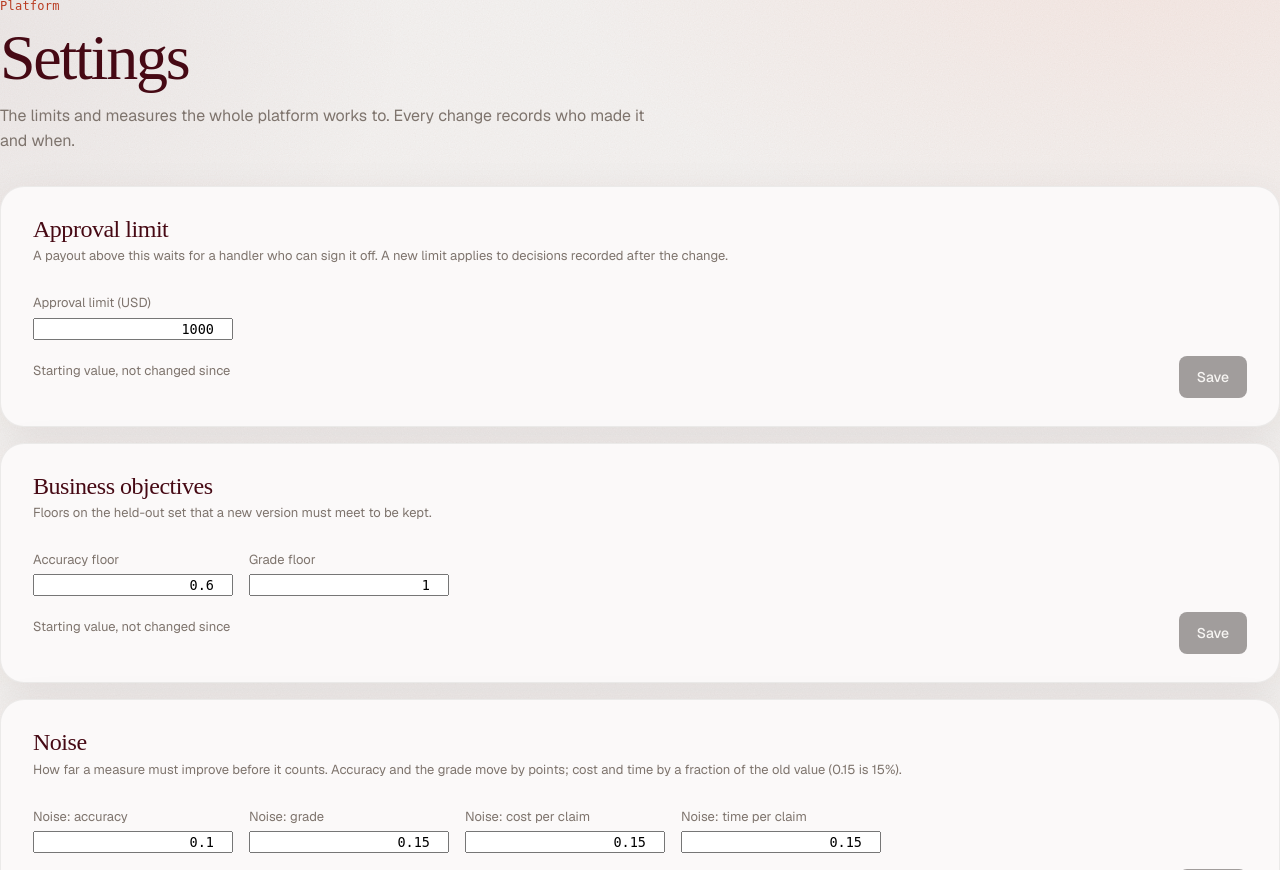
Scenario: Settings › asks for confirmation before a change, and sends nothing until it is given
Replace the text in the number field labelled "Approval limit (USD)" with "1500" at (133, 328), box left=33, top=318, right=233, bottom=340
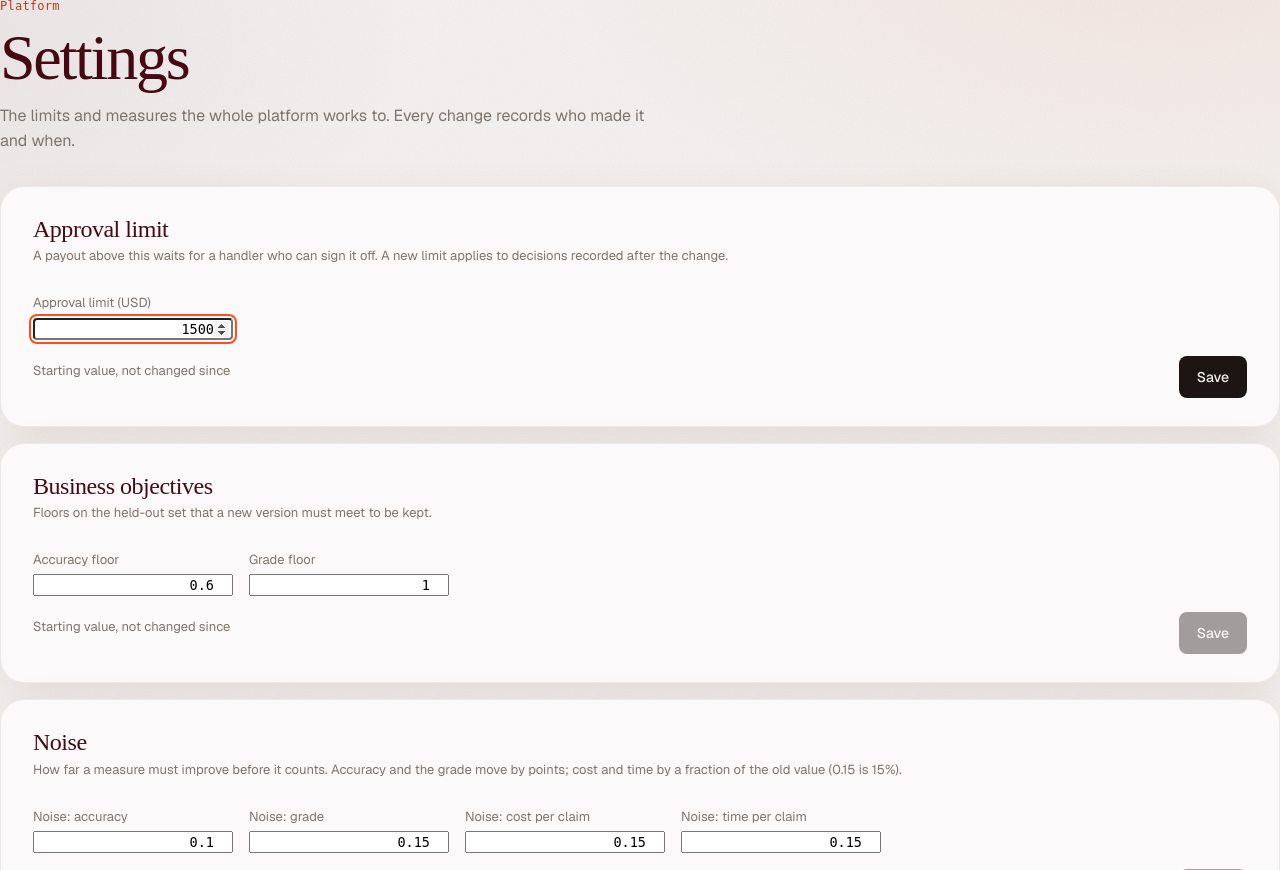
Click the button with aria-label "Save approval limit".
click(1213, 376)  # box left=1179, top=356, right=1247, bottom=398
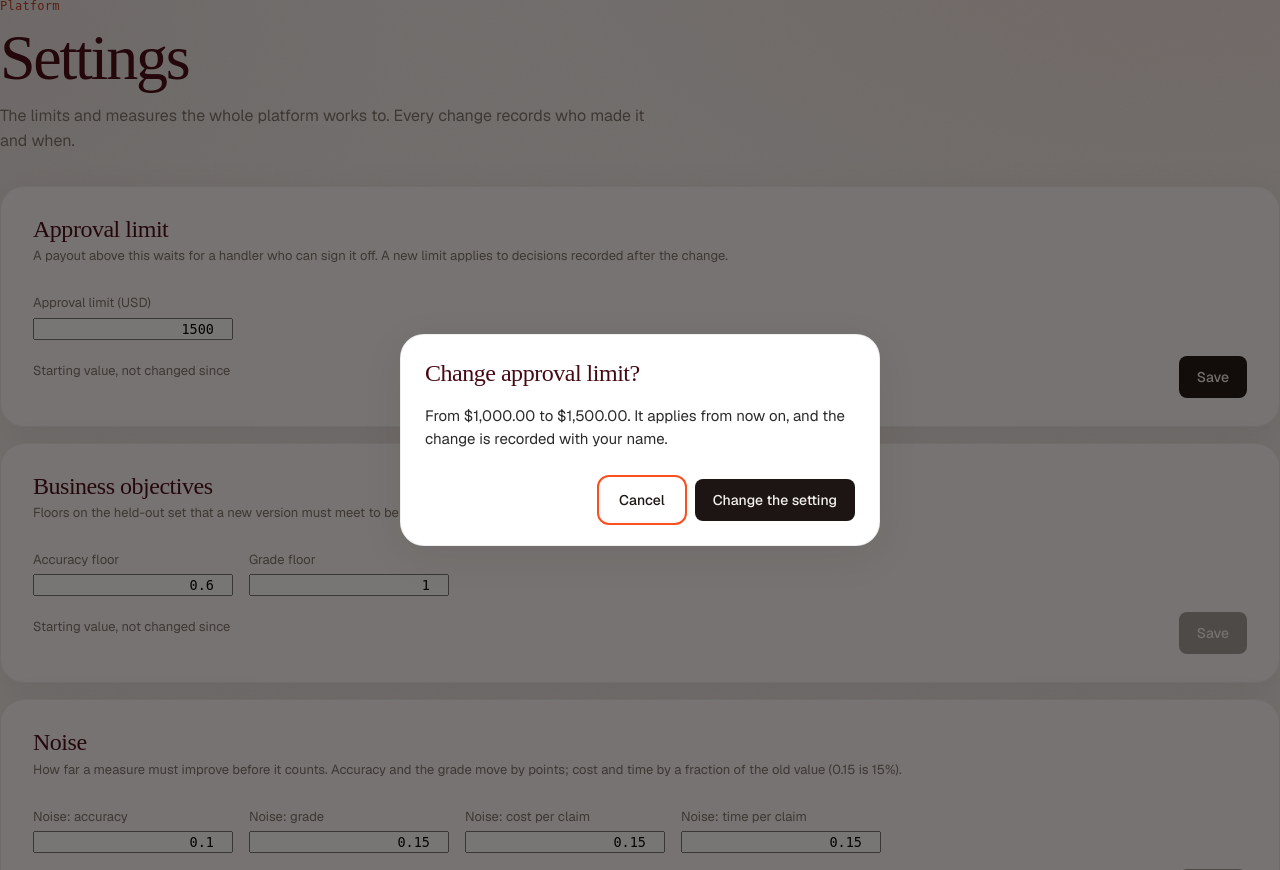
Result: the text "$1,000.00 to $1,500.00" is shown at left=425, top=404, right=855, bottom=451
Click the button "Change the setting".
click(775, 500)  # box left=695, top=479, right=855, bottom=521
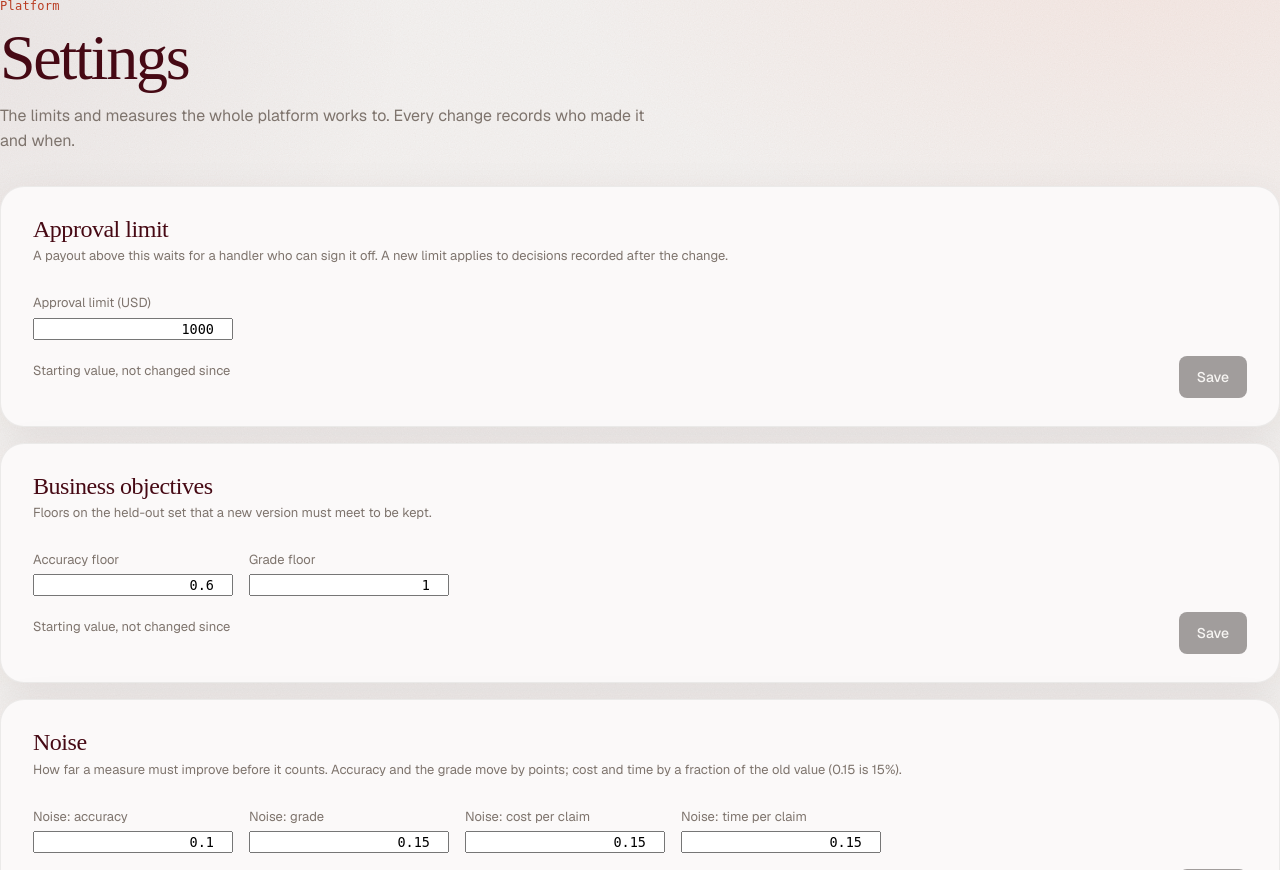
Result: the dialog is gone
